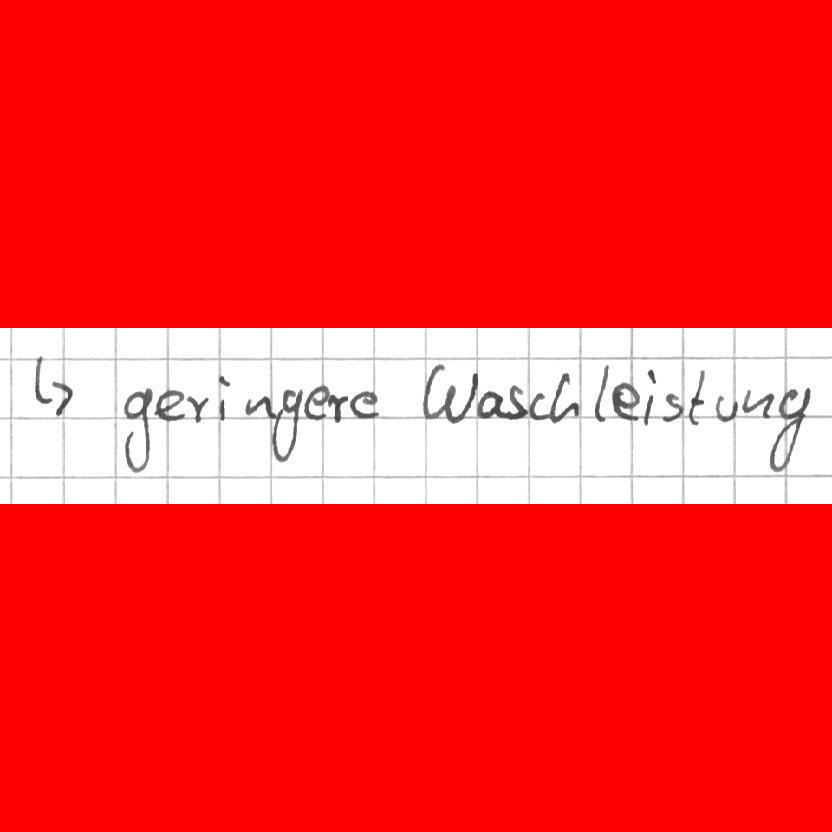Char: (766, 384, 814, 471), (417, 360, 478, 423), (28, 349, 80, 419), (120, 385, 155, 476), (274, 383, 303, 461), (548, 369, 583, 422), (686, 365, 711, 428), (639, 367, 662, 424), (610, 380, 641, 422), (740, 385, 776, 421), (591, 361, 610, 423), (154, 384, 185, 420), (475, 386, 507, 420), (350, 388, 381, 419), (505, 381, 529, 421), (305, 382, 330, 420), (215, 373, 234, 420), (714, 393, 741, 424), (661, 388, 684, 424), (527, 388, 552, 421), (243, 394, 276, 418), (186, 392, 212, 422), (327, 390, 348, 423)
